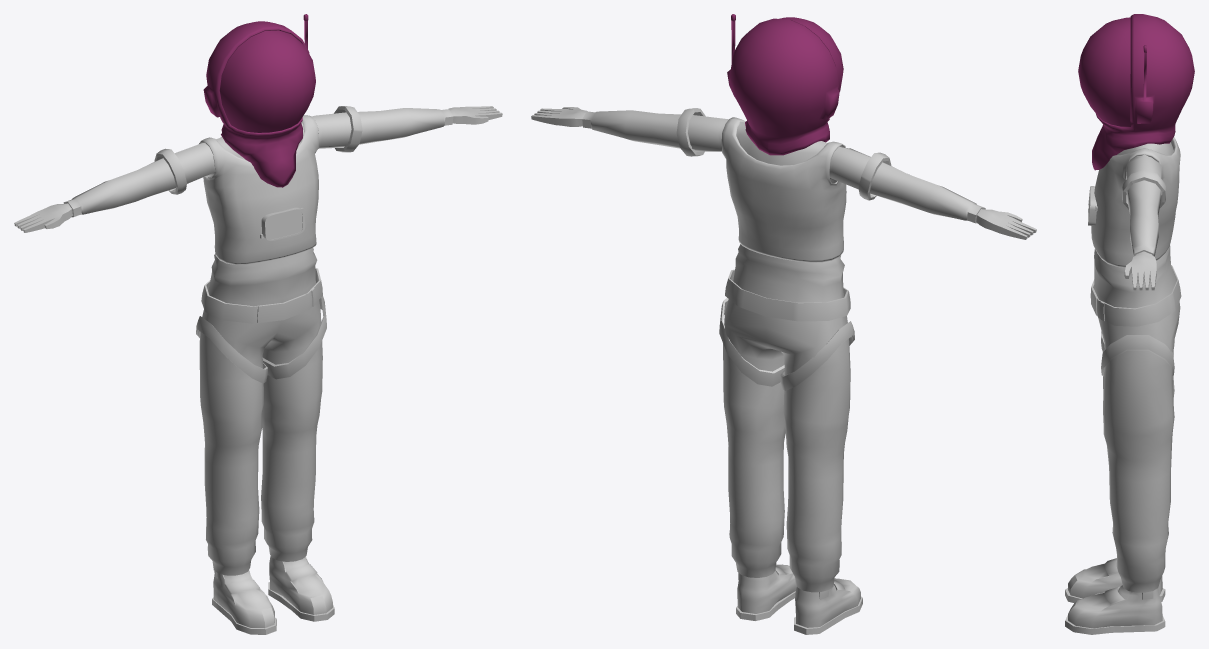
Rendered from astronaut_boy_low.fbx.
The picture shows the model from 3 angles, left to right: view 1: azimuth 30°, elevation 25°; view 2: azimuth 150°, elevation 25°; view 3: azimuth 270°, elevation 25°; orthographic projection. The views are drawn at different scales.
Visible parts, largest first — view 1: body_low, vest_low, helmet_screen_low, helmet_low, belt_low, leg_strap_low (×2), vest_box_low; view 2: body_low, helmet_low, vest_low, belt_low, leg_strap_low (×2), helmet_screen_low, arm_strap_low; view 3: body_low, helmet_low, vest_low, helmet_screen_low, belt_low, leg_strap_low, arm_strap_low, vest_box_low.
Boxes of the visible parts, left/top/right/bottom form: body_low: left=14, top=106, right=502, bottom=634; vest_low: left=199, top=115, right=319, bottom=264; helmet_screen_low: left=220, top=30, right=315, bottom=132; helmet_low: left=203, top=14, right=309, bottom=187; belt_low: left=201, top=267, right=322, bottom=323; leg_strap_low (×2): left=196, top=296, right=326, bottom=383; vest_box_low: left=260, top=207, right=305, bottom=240; body_low: left=531, top=107, right=1036, bottom=634; helmet_low: left=727, top=14, right=839, bottom=155; vest_low: left=721, top=117, right=846, bottom=262; belt_low: left=725, top=269, right=850, bottom=321; leg_strap_low (×2): left=719, top=298, right=854, bottom=390; helmet_screen_low: left=779, top=17, right=843, bottom=91; arm_strap_low: left=858, top=152, right=891, bottom=200; body_low: left=1065, top=142, right=1180, bottom=634; helmet_low: left=1092, top=14, right=1194, bottom=170; vest_low: left=1091, top=137, right=1180, bottom=267; helmet_screen_low: left=1078, top=17, right=1130, bottom=126; belt_low: left=1090, top=265, right=1181, bottom=326; leg_strap_low: left=1101, top=335, right=1174, bottom=376; arm_strap_low: left=1122, top=170, right=1165, bottom=209; vest_box_low: left=1088, top=186, right=1097, bottom=225.
Size of the model in its own units: 53.22 by 61.21 by 12.15.
